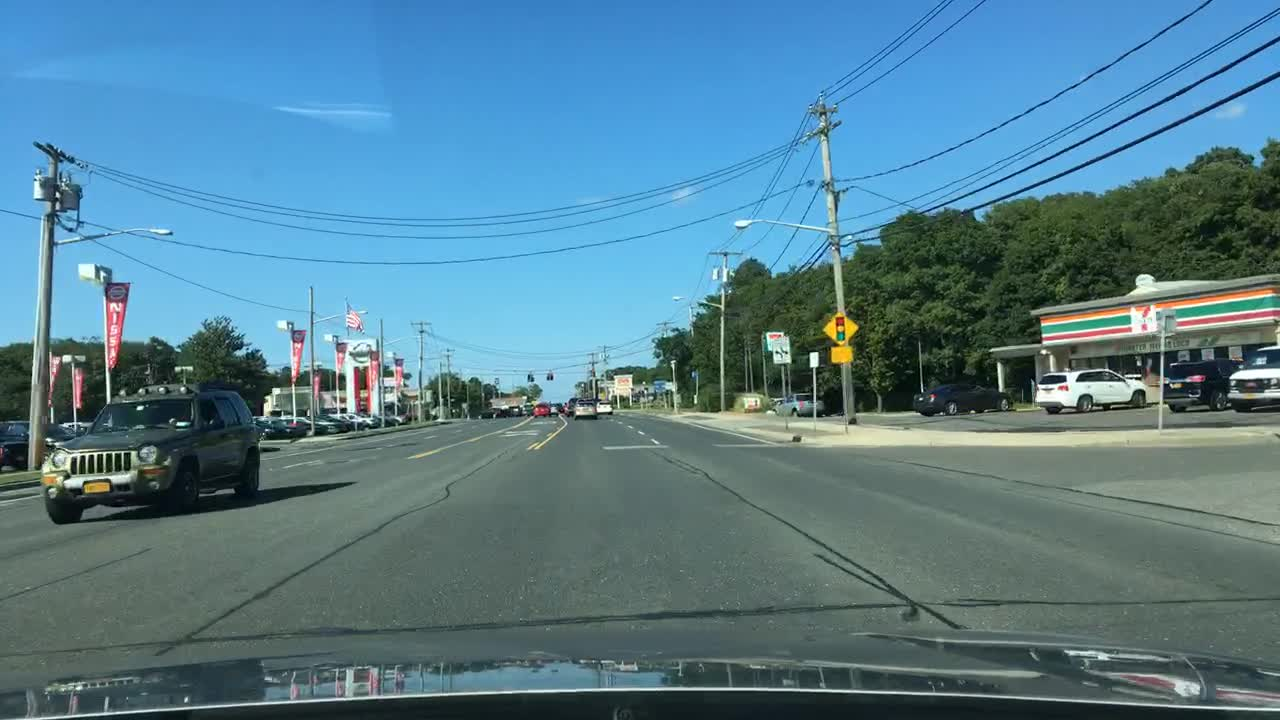car: (39, 383, 261, 528), (1033, 367, 1148, 412), (1163, 357, 1246, 414), (0, 419, 79, 471), (1229, 343, 1278, 414), (912, 382, 1012, 415), (770, 392, 825, 419), (264, 418, 327, 441), (282, 414, 338, 436), (331, 411, 371, 431), (314, 412, 352, 433), (342, 411, 380, 430), (572, 402, 597, 420), (253, 415, 271, 439), (384, 410, 410, 426), (532, 402, 553, 419), (595, 399, 615, 416), (375, 412, 396, 427), (566, 396, 581, 414), (522, 400, 535, 417), (510, 404, 523, 419), (586, 395, 603, 406), (556, 399, 567, 415), (497, 406, 511, 418), (549, 403, 560, 417), (561, 399, 570, 416)
traffic light: (545, 369, 557, 385), (526, 374, 537, 386)
traffic sign: (821, 310, 860, 343), (771, 337, 792, 366), (1157, 307, 1178, 334), (765, 330, 785, 351), (829, 346, 855, 362), (808, 350, 820, 367), (653, 379, 666, 393), (662, 381, 674, 390)
